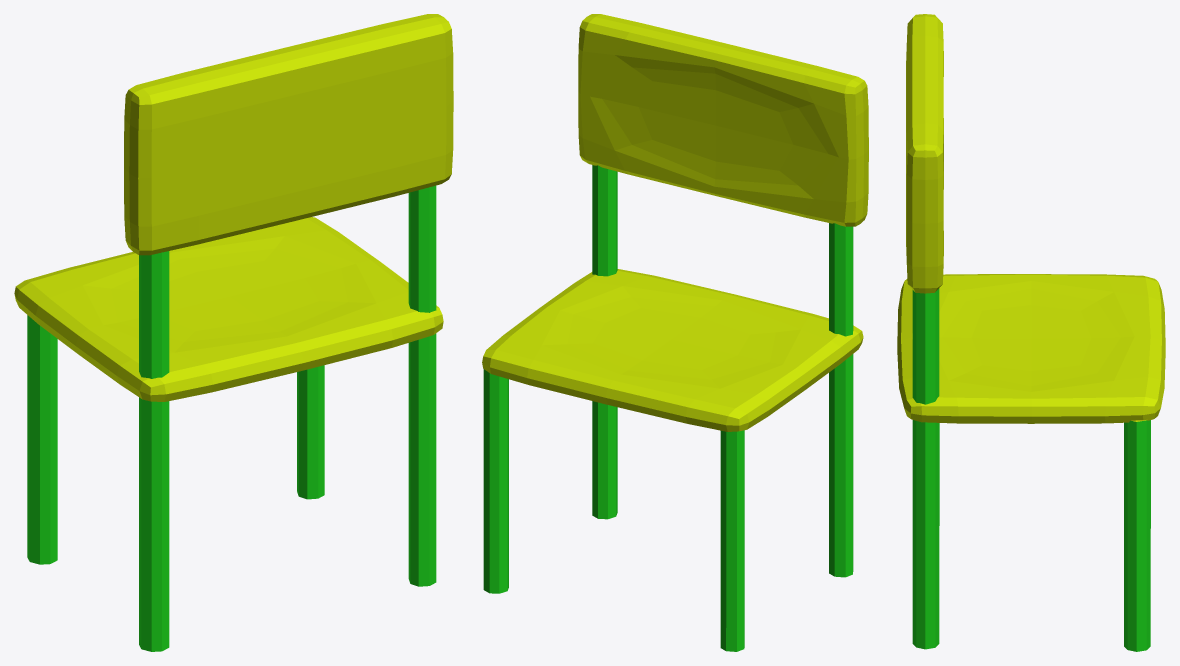
The model's file is GGJ-StudentChair01.fbx.
The picture shows the model from 3 angles, left to right: view 1: azimuth 30°, elevation 25°; view 2: azimuth 150°, elevation 25°; view 3: azimuth 270°, elevation 25°; orthographic projection. The views are drawn at different scales.
Visible parts, largest first — view 1: StrudentChair; view 2: StrudentChair; view 3: StrudentChair.
Boxes of the visible parts, x1,y1,x2,y2 form: StrudentChair: (14, 14, 453, 651); StrudentChair: (482, 14, 868, 651); StrudentChair: (897, 14, 1165, 651).
Size of the model in its own units: 138 by 112 by 232.
